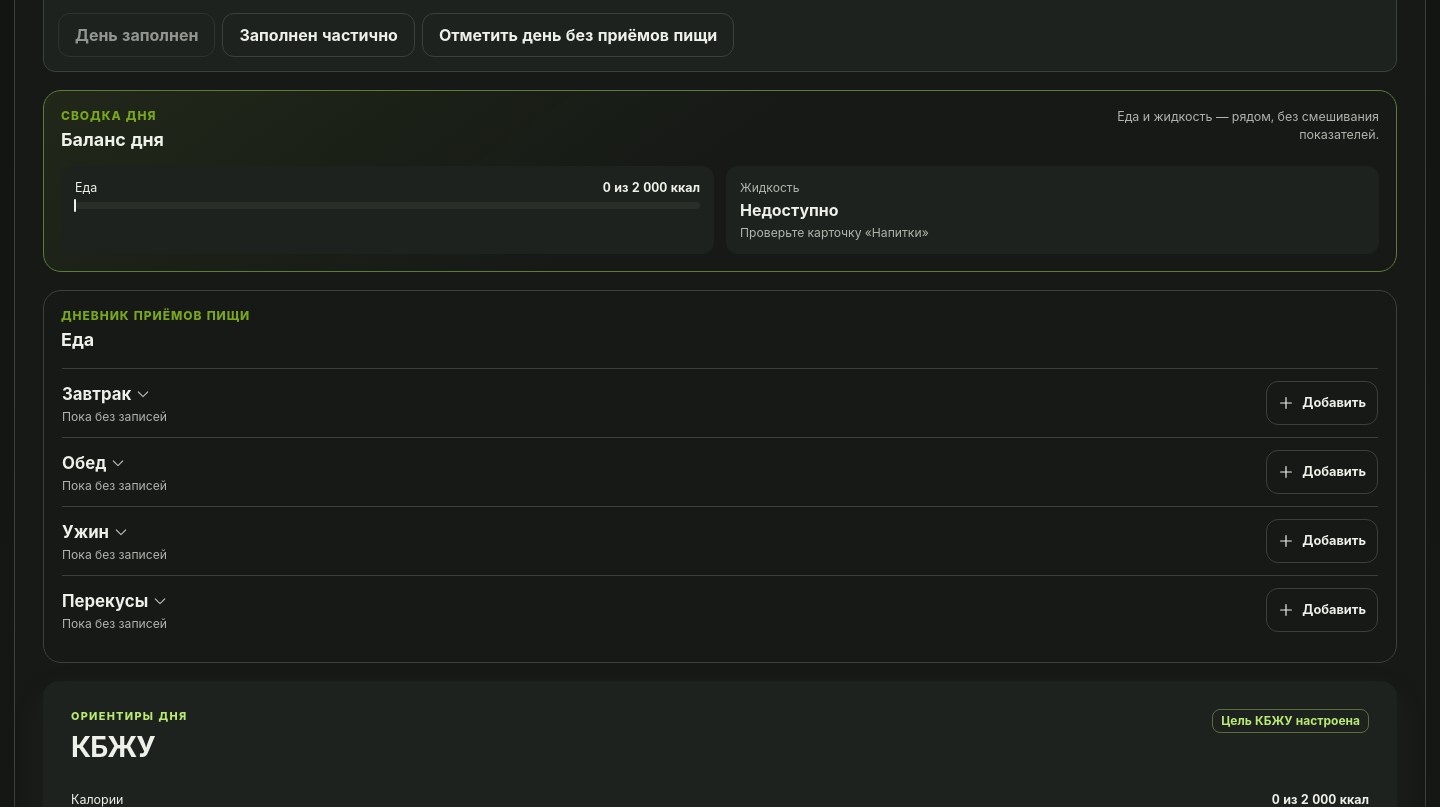
Scenario: NutritionDiary › ignores a stale local search and keeps an unavailable external provider optional
(page scrolled)
Click the 1st button "Добавить": (1322, 403) [1266,381,1378,425]
(page scrolled)
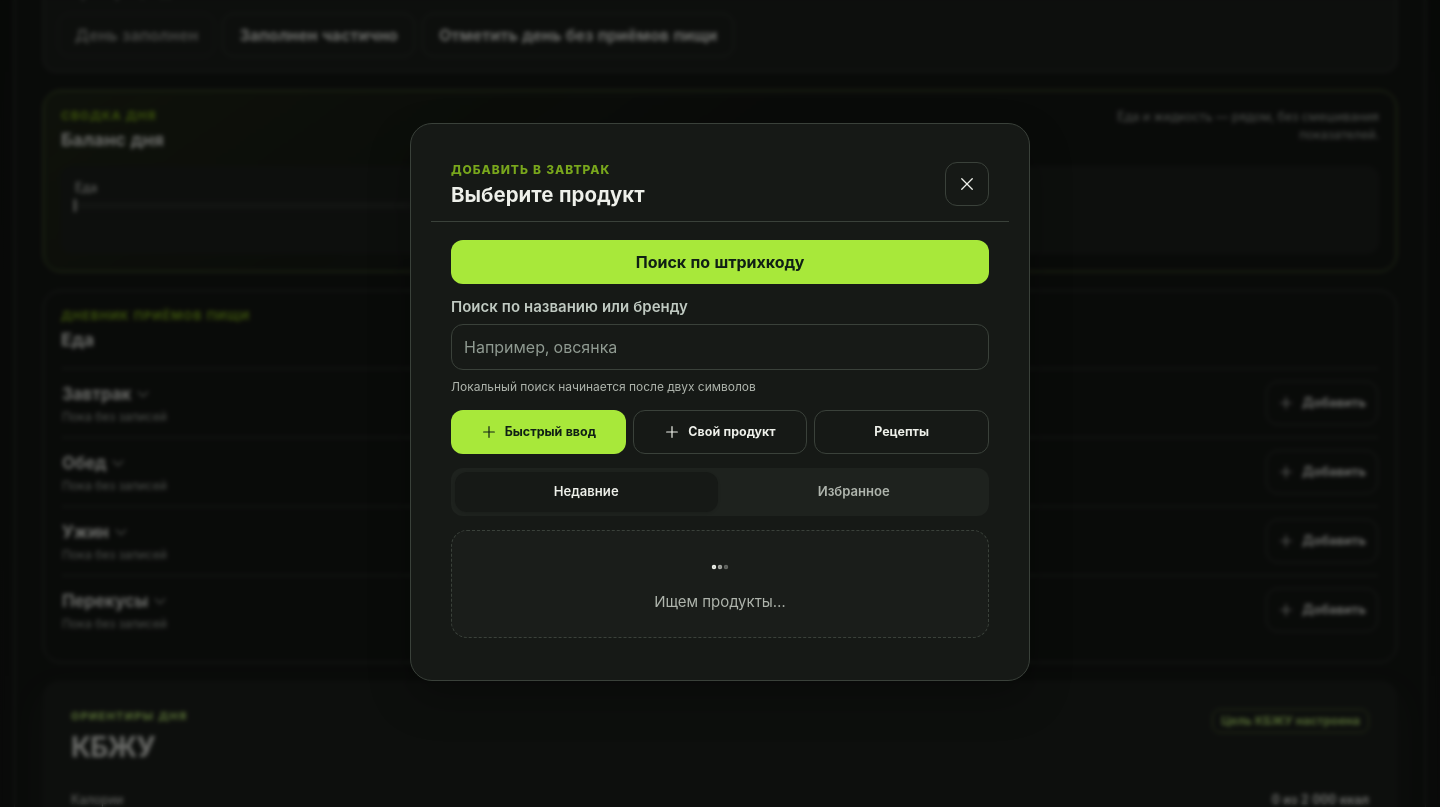
In the search field labelled "Поиск по названию или бренду": (720, 347) [451,324,989,370], type "ов"
Wait 250 ms
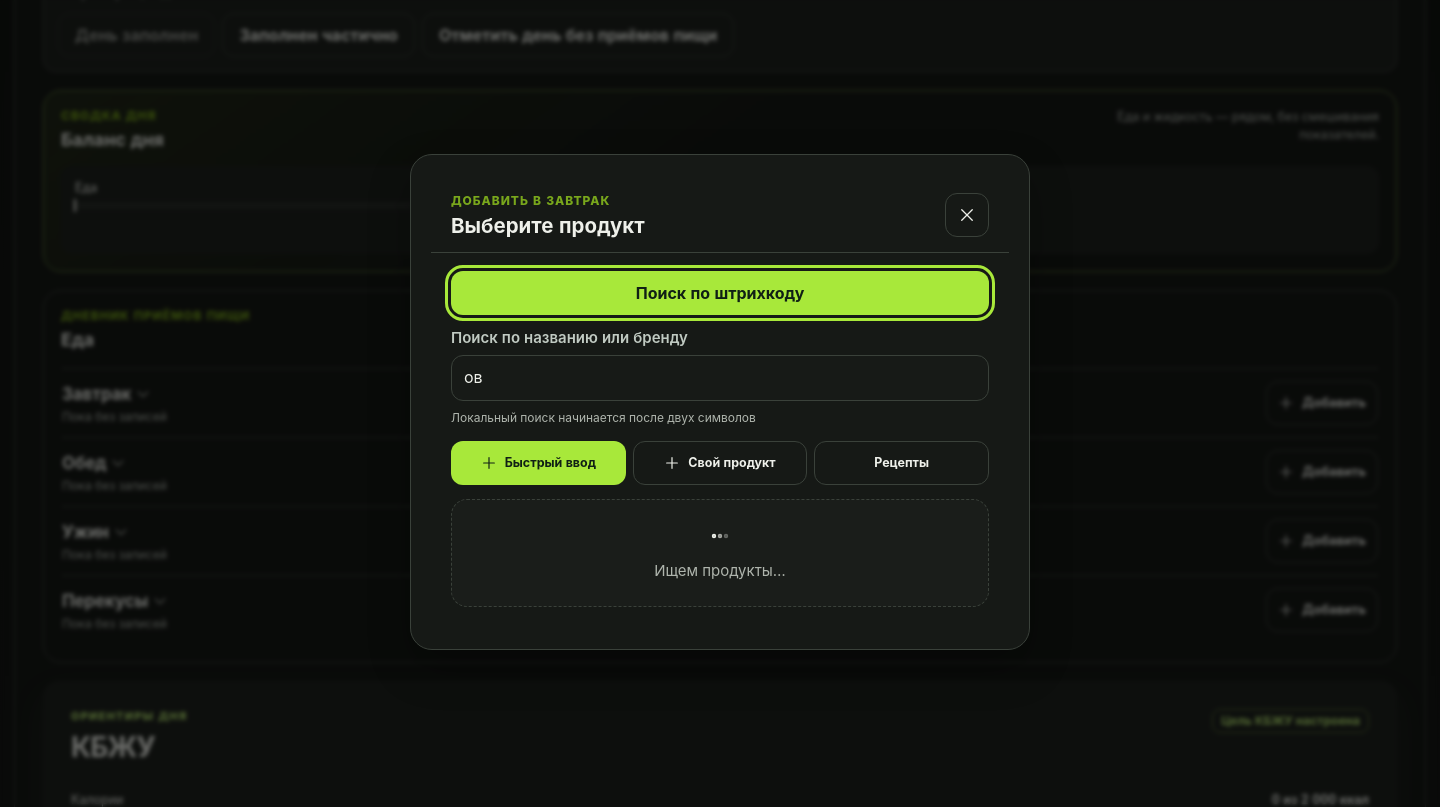
Replace the text in the search field labelled "Поиск по названию или бренду" with "тофу": (720, 378) [451,355,989,401]
Wait 250 ms
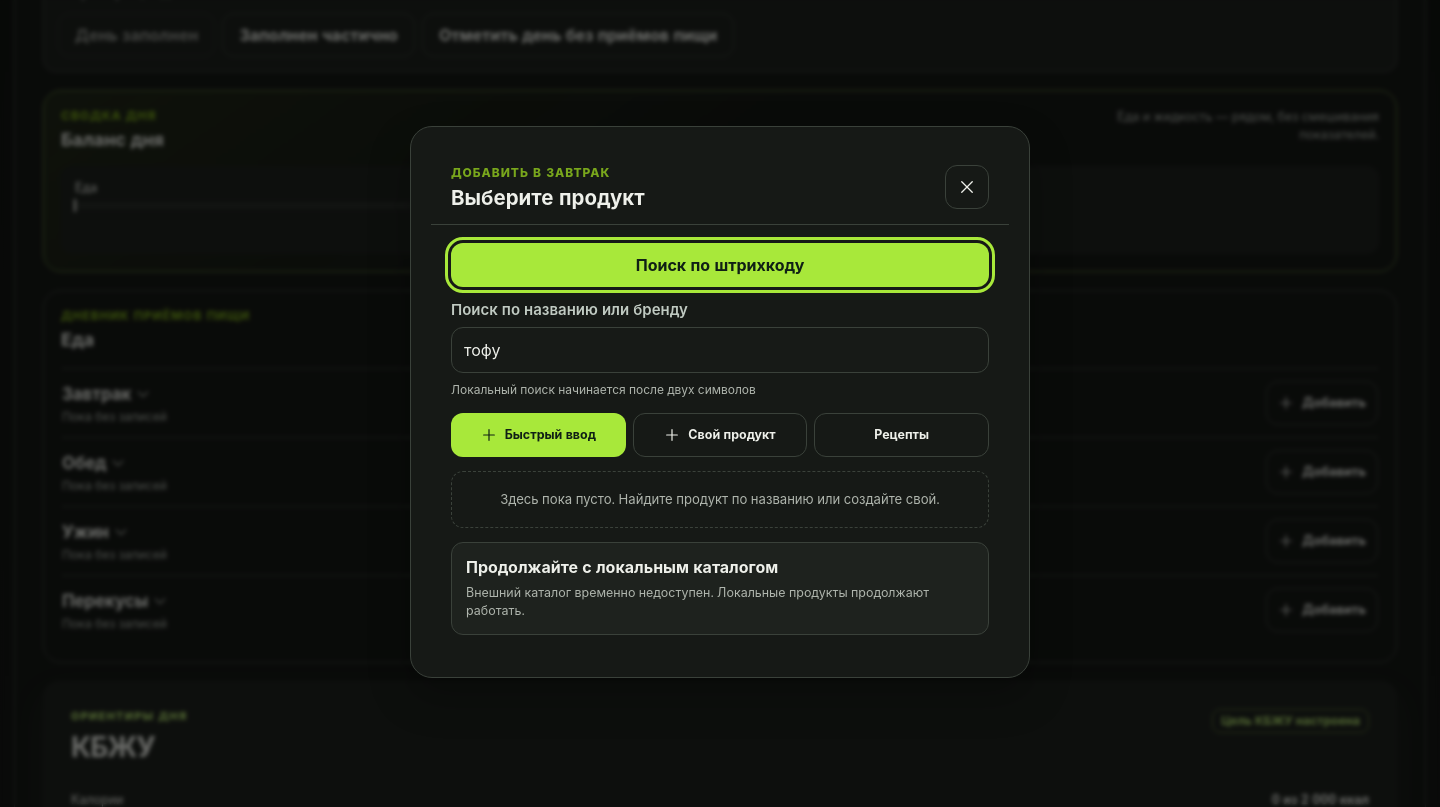
Result: the text "Внешний каталог временно недоступен. Локальные продукты продолжают работать." is shown at [466,584,974,620]
